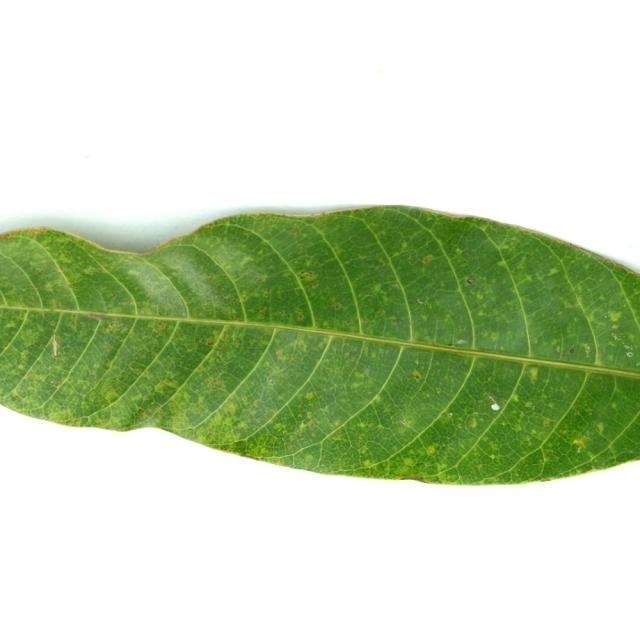Mango: (0, 207, 639, 483)
Powdery_Mildew: (492, 434, 553, 479), (524, 363, 545, 391), (249, 440, 271, 456), (205, 375, 224, 390), (356, 253, 377, 266), (102, 386, 118, 402), (209, 413, 226, 428), (105, 320, 125, 332), (517, 274, 534, 287), (298, 269, 316, 281), (154, 380, 169, 393), (487, 395, 500, 410), (274, 347, 288, 360), (217, 327, 230, 340), (609, 310, 623, 322), (51, 335, 59, 356), (239, 256, 254, 267), (87, 312, 106, 320), (495, 259, 510, 269), (127, 269, 142, 278), (370, 283, 382, 294), (562, 299, 575, 309), (572, 438, 585, 448), (583, 343, 592, 357), (294, 310, 305, 321), (595, 421, 605, 433), (43, 282, 55, 292), (436, 462, 448, 472), (155, 321, 167, 331), (70, 313, 78, 328), (403, 457, 415, 466), (374, 308, 386, 317), (362, 460, 375, 468), (426, 445, 436, 455), (411, 370, 421, 380), (468, 417, 477, 428), (358, 446, 369, 455), (205, 337, 216, 346), (496, 243, 510, 250), (549, 266, 559, 275), (489, 332, 499, 341), (20, 350, 29, 360), (305, 391, 315, 400), (258, 308, 267, 318), (260, 291, 270, 300), (237, 422, 248, 430), (5, 321, 16, 329), (387, 316, 398, 324), (274, 422, 285, 430), (332, 303, 344, 310), (153, 303, 160, 315), (510, 393, 519, 402), (140, 410, 149, 419), (297, 423, 307, 431), (417, 297, 427, 305), (373, 395, 382, 403), (475, 292, 484, 300), (456, 339, 467, 345), (239, 293, 247, 301), (401, 240, 408, 249), (363, 367, 370, 376), (422, 256, 431, 263), (612, 334, 621, 341), (357, 422, 367, 428), (454, 248, 462, 255), (477, 310, 485, 317), (489, 453, 497, 460), (12, 390, 20, 397), (627, 334, 634, 342), (52, 380, 60, 387), (625, 344, 633, 351), (392, 283, 401, 289), (408, 321, 413, 331), (288, 434, 295, 441), (253, 401, 260, 408), (229, 313, 236, 320), (241, 396, 248, 402), (401, 420, 408, 426), (466, 278, 473, 284), (568, 348, 575, 354), (306, 412, 312, 418), (66, 282, 72, 288), (556, 346, 561, 353), (308, 284, 313, 291), (448, 342, 455, 347), (627, 352, 634, 357), (109, 293, 115, 298), (449, 413, 453, 417), (638, 361, 640, 366)
